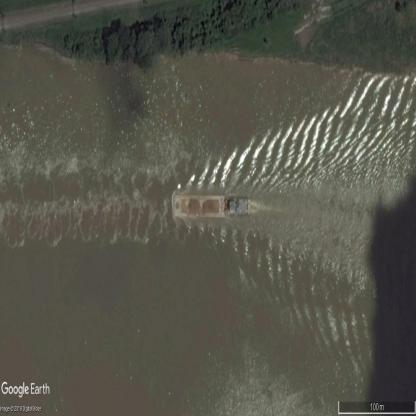ship: (172, 194, 249, 216)
